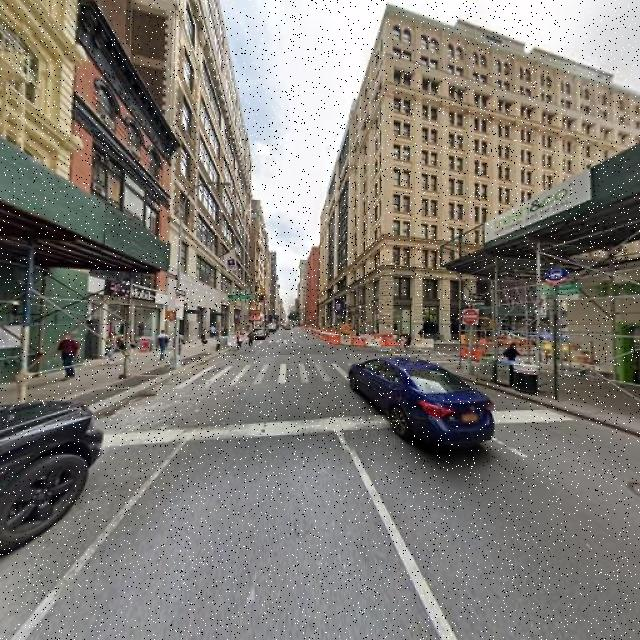Building: (78, 1, 168, 363), (1, 1, 72, 379), (172, 1, 250, 343), (320, 27, 384, 340)
